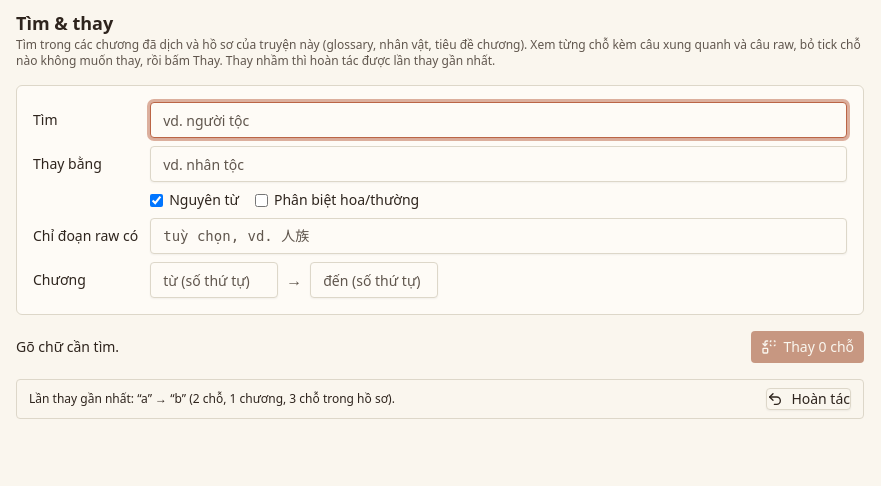
it: ReplacePage › hoàn tác báo cả file hồ sơ trả về và file đã sửa tiếp
Expected: the text "Lần thay gần nhất: “a” → “b” (2 chỗ, 1 chương, 3 chỗ trong hồ sơ)." is shown, [29, 390, 395, 407]
Step 1. Click the button "Hoàn tác" → (809, 399), box [766, 388, 851, 410]
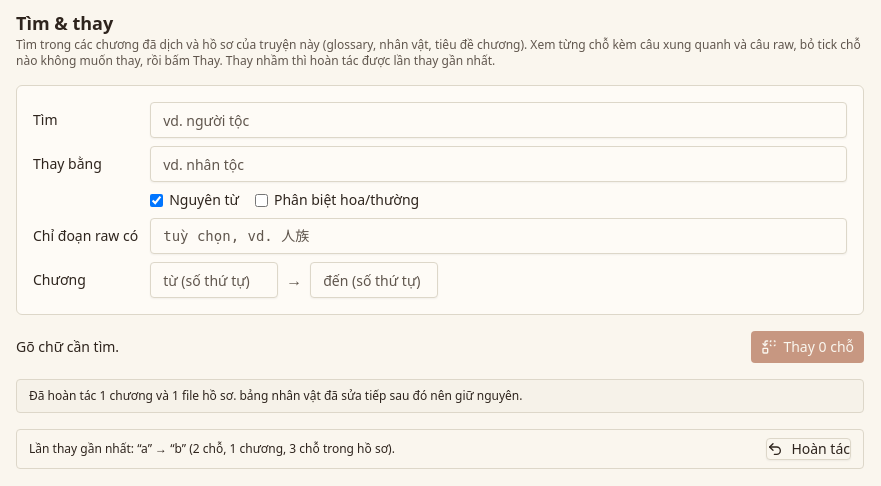
Now the text "Đã hoàn tác 1 chương và 1 file hồ sơ. bảng nhân vật đã sửa tiếp sau đó nên giữ nguyên." is shown, box [29, 387, 522, 404]
